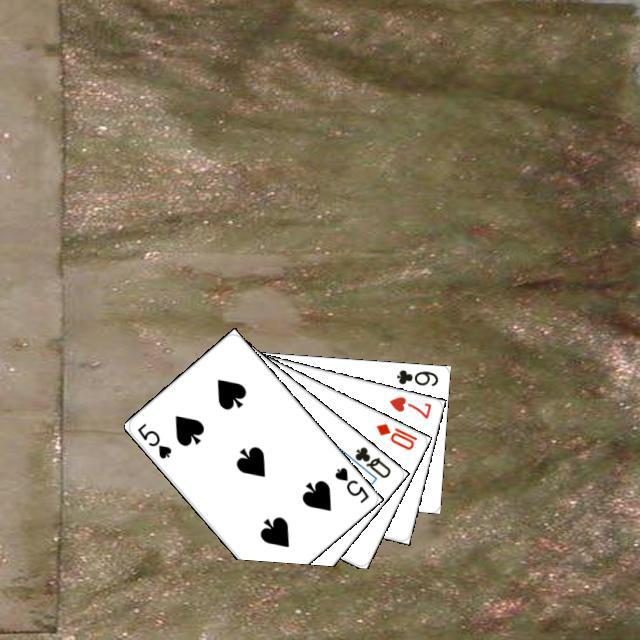10d: (371, 418, 419, 452)
5s: (330, 462, 371, 505), (132, 418, 173, 460)
6c: (391, 365, 440, 388)
7h: (385, 391, 433, 421)
Qc: (342, 441, 393, 483)
